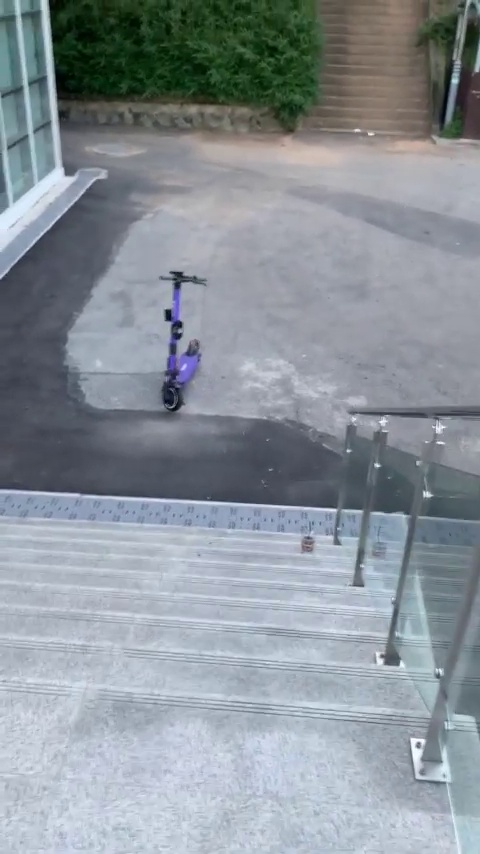beam: (145, 266, 220, 422)
